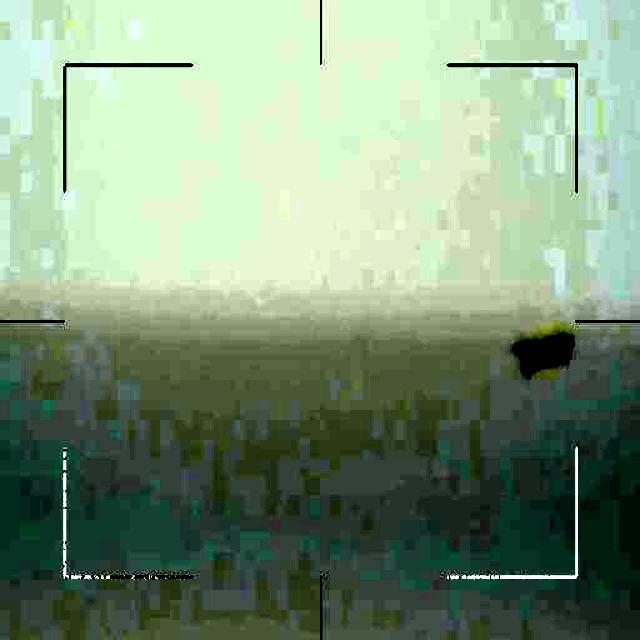bird: (514, 334, 580, 384)
